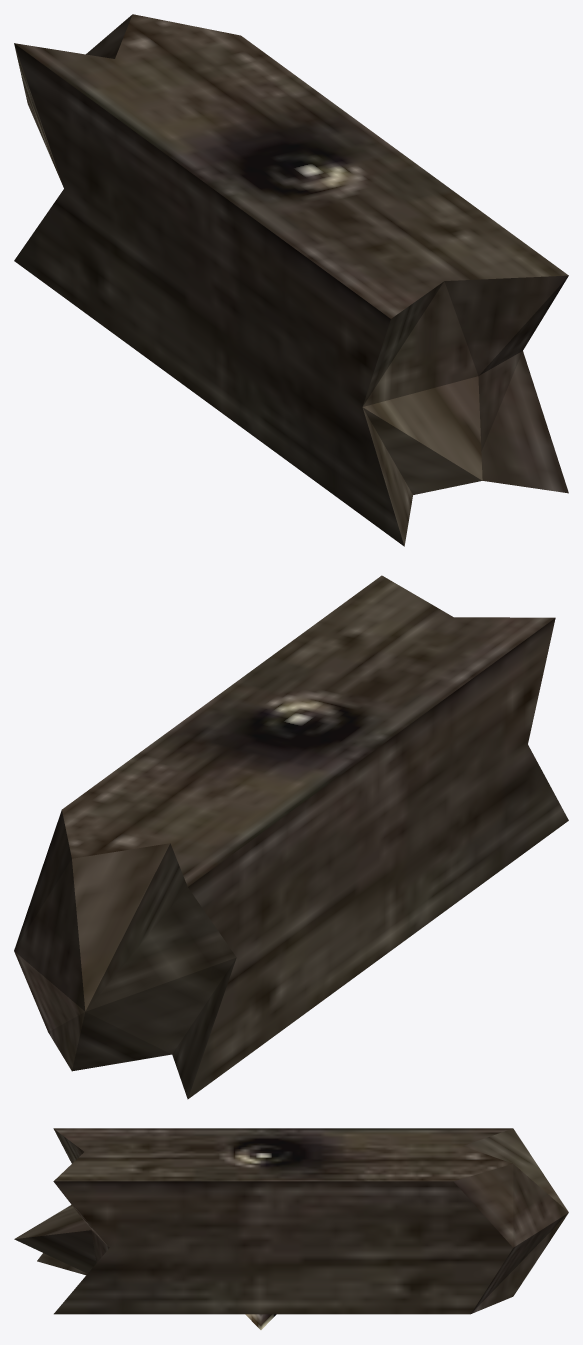
Rendered from Gate01.glb.
The picture shows the model from 3 angles, top to bottom: view 1: azimuth 30°, elevation 25°; view 2: azimuth 150°, elevation 25°; view 3: azimuth 270°, elevation 25°; orthographic projection. The views are drawn at different scales.
Visible parts, largest first — view 1: model_Gate01; view 2: model_Gate01; view 3: model_Gate01.
Boxes of the visible parts, x1,y1,x2,y2 form: model_Gate01: (14, 14, 568, 546); model_Gate01: (14, 575, 568, 1099); model_Gate01: (14, 1128, 568, 1329).
Bounding box in the file's own units: 0.399 × 0.6154 × 1.77.
1 material, 1 textured.
